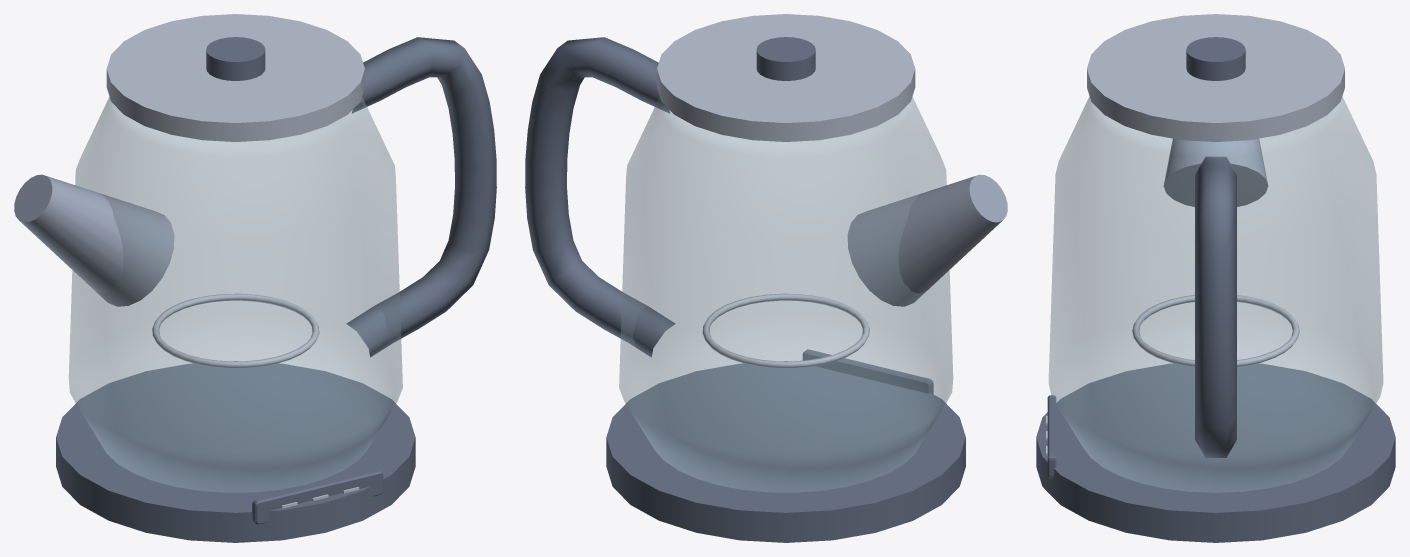
Rendered from health-kettle-lite.glb.
3 views of the same model, side by side, from view 1: azimuth 30°, elevation 25°; view 2: azimuth 150°, elevation 25°; view 3: azimuth 270°, elevation 25° (orthographic).
Visible parts, largest first — view 1: glass, dark, soft, body, light; view 2: glass, dark, soft, body, light; view 3: glass, dark, soft, body, light.
Part boxes in pixels (x1,y1,x2,y2): glass: [68, 97, 402, 492]; dark: [56, 37, 496, 542]; soft: [106, 14, 364, 141]; body: [14, 174, 174, 306]; light: [152, 293, 359, 508]; glass: [619, 97, 953, 492]; dark: [525, 37, 965, 542]; soft: [657, 14, 915, 141]; body: [847, 174, 1007, 306]; light: [702, 293, 869, 368]; glass: [1048, 97, 1383, 492]; dark: [1036, 37, 1395, 542]; soft: [1087, 14, 1344, 141]; body: [1163, 138, 1268, 206]; light: [1046, 295, 1299, 455].
Size of the model in its own units: 0.3127 by 0.264 by 0.206.
